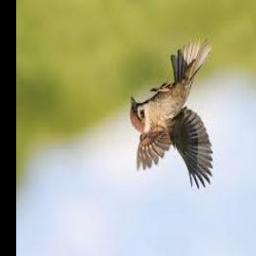Sparrow: (129, 38, 212, 189)
